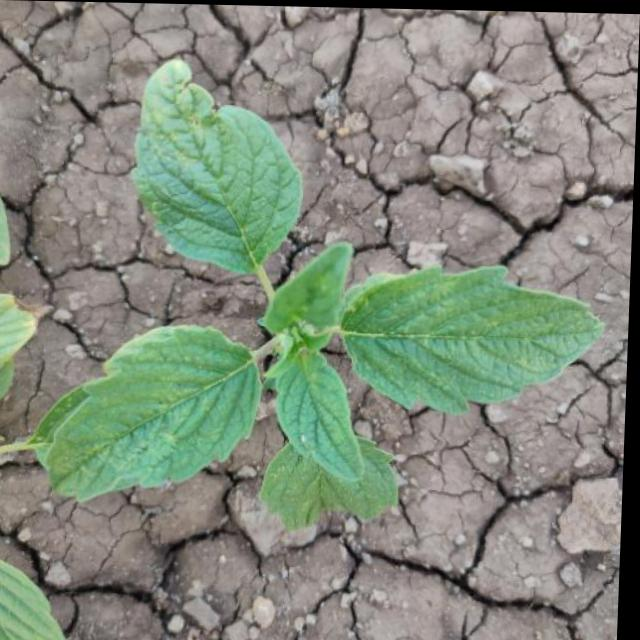crop: (38, 48, 619, 569)
